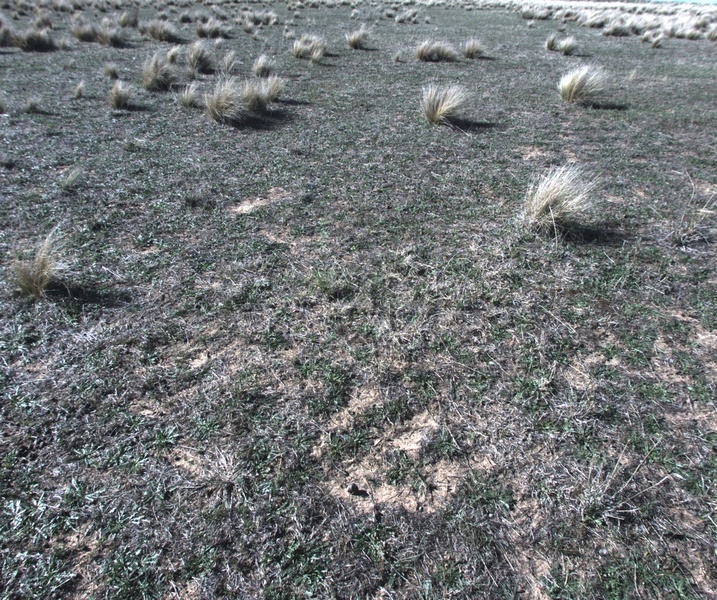st: (517, 166, 617, 235), (10, 230, 65, 300), (417, 75, 470, 124), (555, 66, 604, 108), (140, 53, 172, 94), (415, 36, 456, 65), (238, 79, 271, 115), (106, 82, 134, 119), (16, 28, 50, 55), (459, 33, 488, 63), (56, 162, 80, 197), (186, 44, 214, 74), (207, 80, 229, 118), (181, 76, 203, 113), (142, 18, 175, 42), (102, 22, 130, 49), (291, 32, 321, 57), (253, 51, 277, 79), (556, 37, 579, 64), (239, 9, 278, 24), (221, 44, 239, 75), (75, 24, 100, 43), (25, 95, 46, 115), (345, 26, 364, 48), (102, 60, 118, 83), (310, 43, 324, 67), (650, 31, 666, 51), (210, 19, 226, 37), (167, 43, 180, 64), (543, 34, 559, 51), (71, 80, 85, 99), (195, 17, 208, 37), (392, 48, 405, 65), (394, 9, 404, 22)
